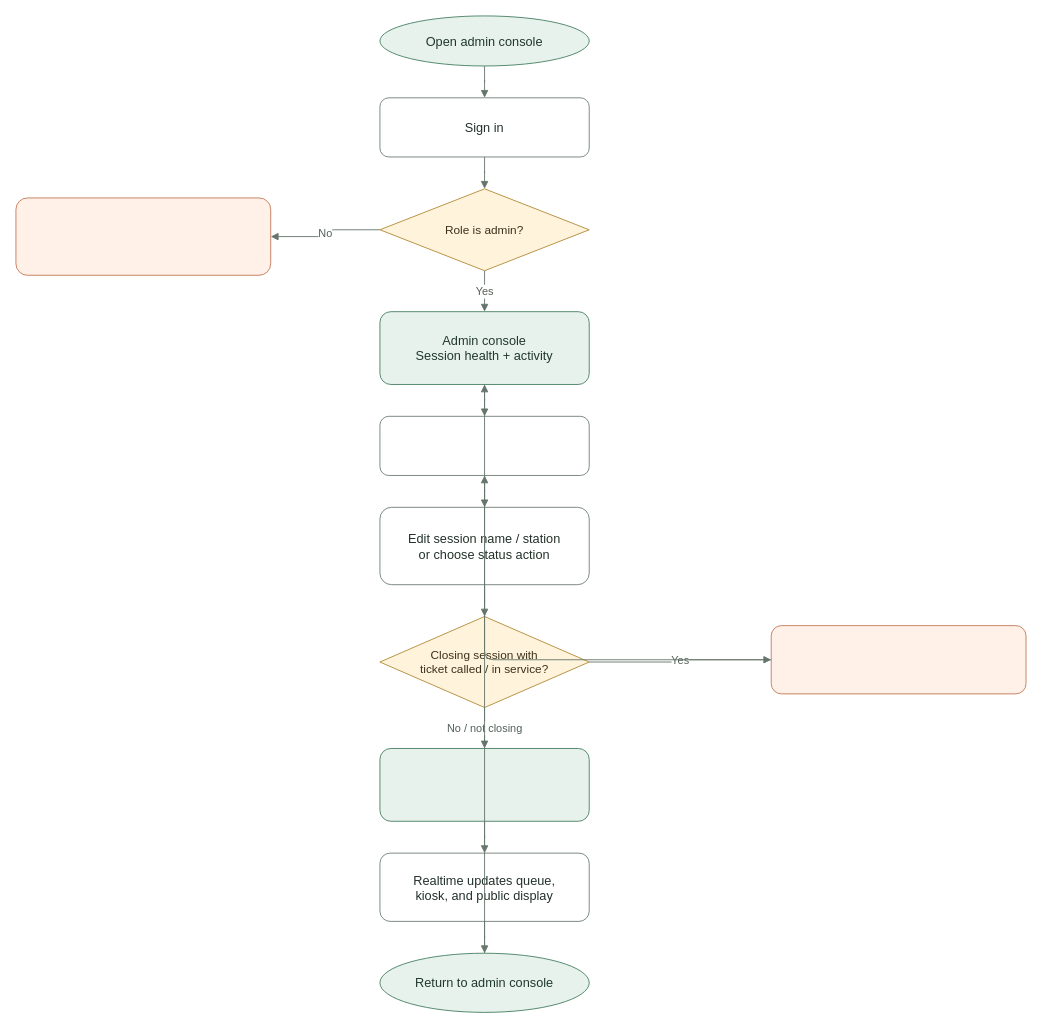
This 1042x1028 diagram has some shape labels left out. Here are the shapes that lost their labels. From the top down, the box of each, then its label:
(15, 197, 271, 275): Staff role only Queue actions available; settings restricted
(379, 415, 589, 475): Open session setup
(770, 625, 1026, 694): Complete or skip current teacher ticket first
(379, 748, 589, 821): Save through admin-checked database function
